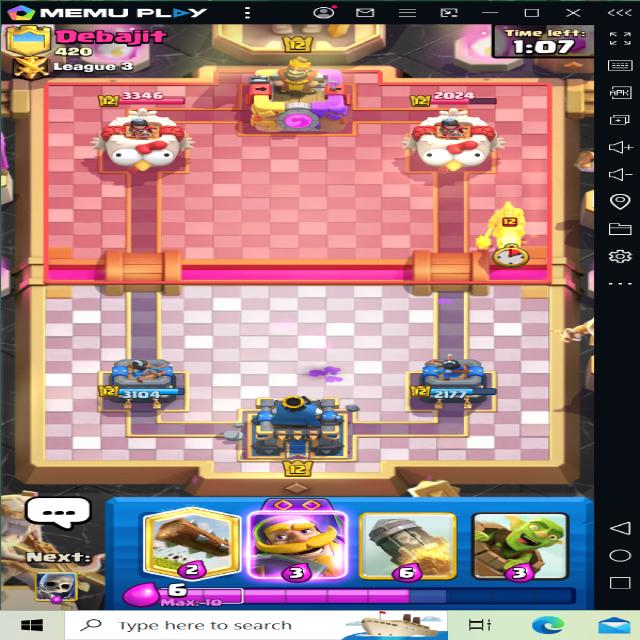Hog: (463, 198, 542, 260)
